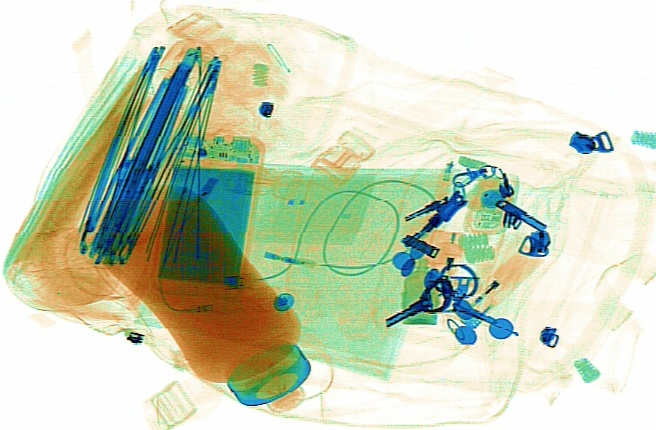lighter: (457, 244, 543, 329)
